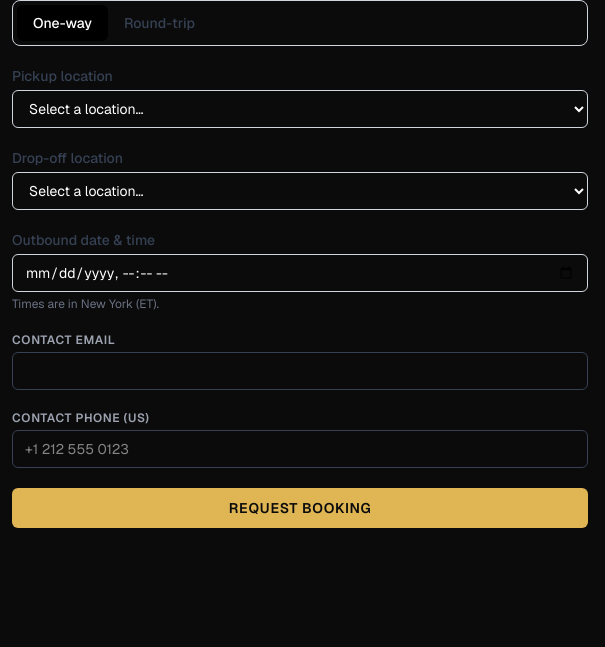
Test case: BookingForm › shows the return picker only for round trips
The width and height of the screenshot is (605, 647).
Step 1. Click the radio button with test id "trip-type-ROUND_TRIP" → [160, 23], box x1=108 y1=5 x2=211 y2=41
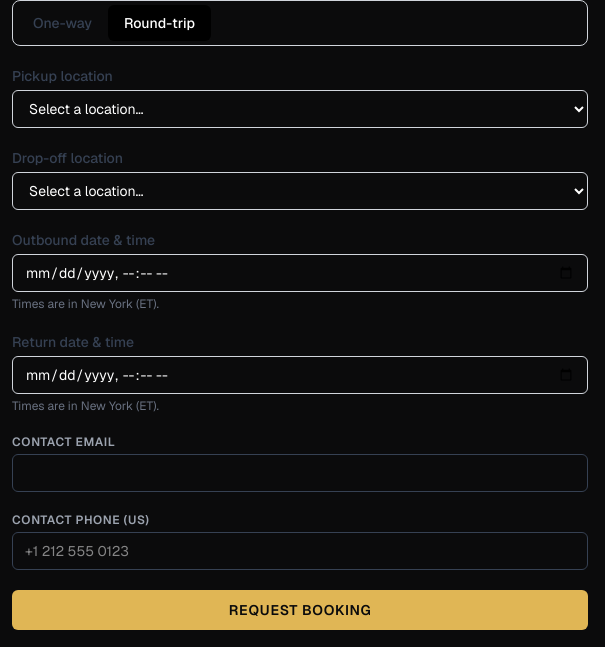
Expected: the field with test id "return-datetime" is shown, x1=12 y1=356 x2=588 y2=394
